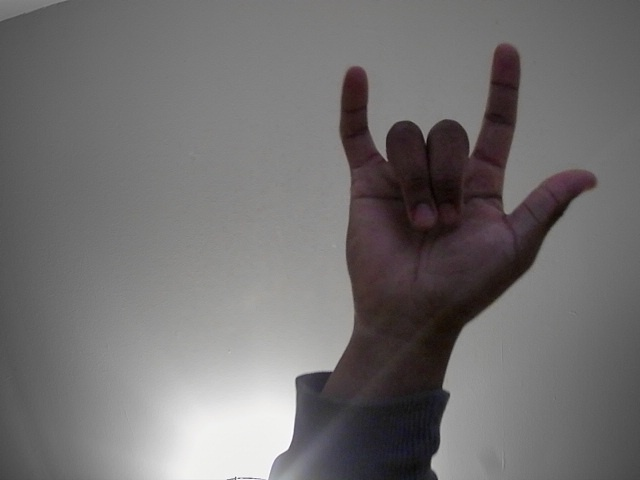ILoveYou: (327, 31, 607, 385)
